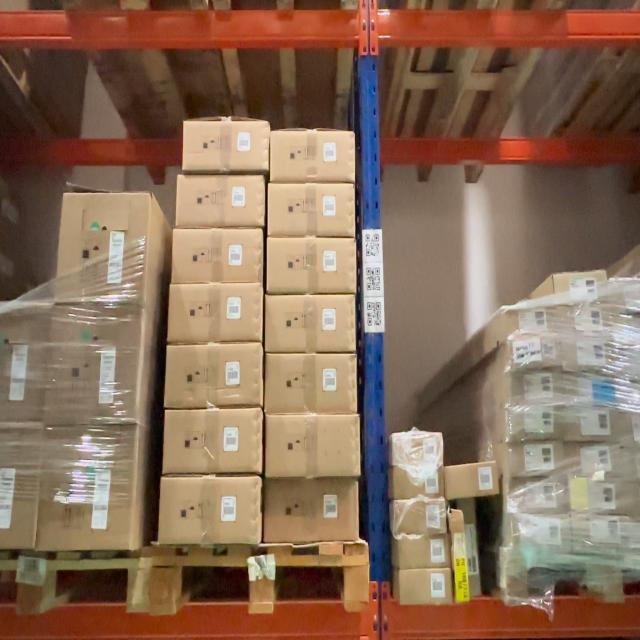box: (35, 424, 140, 552), (43, 304, 144, 424), (55, 190, 151, 299), (157, 477, 261, 544), (162, 408, 264, 476), (164, 342, 264, 408), (263, 414, 361, 477), (261, 480, 359, 541), (166, 283, 263, 344), (263, 353, 358, 414), (264, 295, 356, 353), (265, 236, 357, 293), (181, 115, 273, 172), (171, 230, 264, 286), (176, 174, 267, 229), (266, 183, 356, 237), (269, 129, 357, 182), (505, 404, 561, 442), (506, 441, 563, 478), (568, 478, 626, 513), (460, 502, 481, 598), (562, 370, 619, 405), (506, 370, 561, 406), (398, 569, 453, 605), (571, 516, 630, 549), (551, 268, 605, 304), (505, 480, 565, 512), (566, 444, 624, 477), (508, 333, 561, 369), (446, 462, 499, 498), (511, 516, 570, 548), (398, 536, 451, 571), (561, 337, 617, 369), (395, 500, 446, 534), (563, 410, 620, 440), (392, 432, 442, 466), (557, 301, 610, 333), (394, 465, 444, 497), (509, 305, 555, 335), (452, 510, 466, 601)
